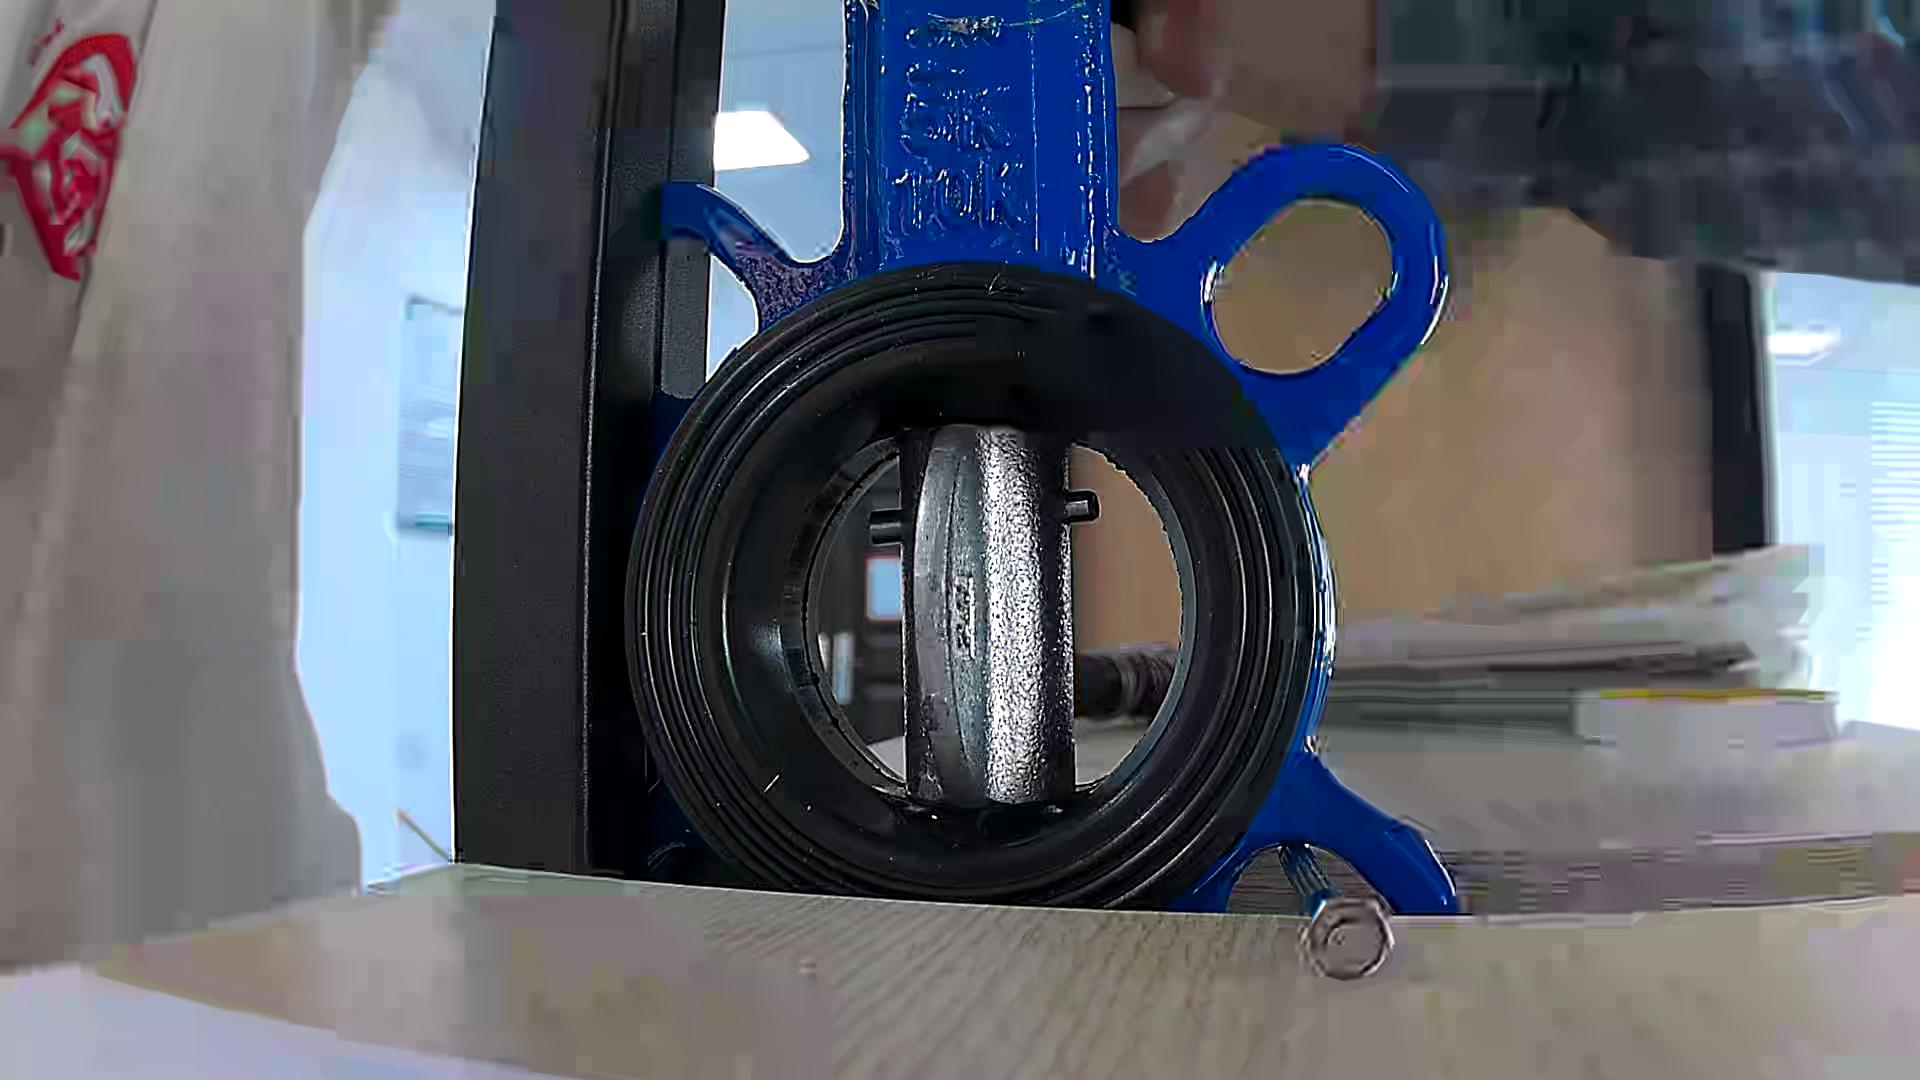valve: (899, 423, 1076, 806)
